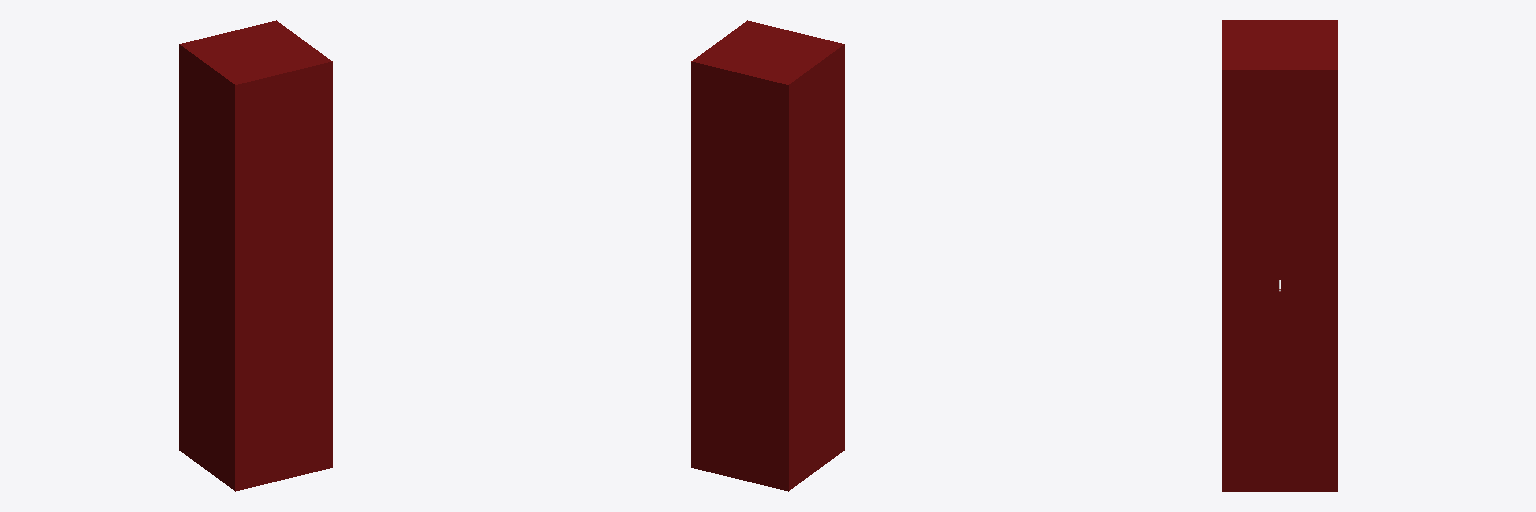
URDF robot description (valve):
<?xml version="1.0"?>
<robot name="valve">
  <link name="valve_base_link">
    <visual>
      <geometry>
        <box size="0.5 0.5 2.0"/>
      </geometry>
      <material name="redish">
	<color rgba="0.5 0.1 0.1 0.5"/>
      </material>
    </visual>
    <collision>
      <geometry>
        <box size="0.5 .5 2.0"/>
      </geometry>
    </collision>
    <inertial>
      <origin xyz="0 0 0"/>
      <mass value="10"/>
      <inertia ixx="1.0" ixy="0.0" ixz="0.0" iyy="1.0" iyz="0.0" izz="1.0"/>
    </inertial>
  </link>

  <link name="handle">
    <visual>
      <geometry>
	<mesh filename="package://wpi_drc_sim/meshes/valve_models/red-valve-3-spokes-handle.dae" scale="0.05 0.05 0.05"/>
      </geometry>
    </visual>
    <collision>
      <geometry>
        <mesh filename="package://wpi_drc_sim/meshes/valve_models/red-valve-3-spokes-handle.stl" scale="0.05 0.05 0.05"/>
      </geometry>
    </collision>
    <inertial>
      <origin xyz="0 0 0"/>
      <mass value="0.1"/>
      <inertia ixx="1.0" ixy="0.0" ixz="0.0" iyy="1.0" iyz="0.0" izz="1.0"/>
    </inertial>
  </link>
  
  <link name="rod">
    <visual>
      <geometry>
	<cylinder length="0.1" radius="0.005"/>
      </geometry>
      <origin rpy="0 1.57075 0" xyz="0 0 0"/>
      <material name="whiteish">
	<color rgba="1.0 1.0 1.0 1.0"/>
      </material>
    </visual>
    <collision>
      <geometry>
	<cylinder length="0.1" radius="0.005"/>
      </geometry>
      <origin rpy="0 1.57075 0" xyz="0 0 0"/>
    </collision>
    <inertial>
      <origin xyz="0 0 0"/>
      <mass value="0.1"/>
      <inertia ixx="1.0" ixy="0.0" ixz="0.0" iyy="1.0" iyz="0.0" izz="1.0"/>
    </inertial>
  </link>

  <joint name="body_to_rod" type="fixed">
    <parent link="valve_base_link"/>
    <child link="rod"/>
    <origin xyz="0.3 0.0 0.0"/>
  </joint>

  <joint name="rod_to_handle" type="continuous">
    <parent link="rod"/>
    <child link="handle"/>
    <axis xyz="1 0 0"/>
    <origin xyz="0.05 0 0"/>
  </joint>

  <!--gazebo>
    <turnGravityOff>true</turnGravityOff>
    <static>true</static>
  </gazebo-->
  <gazebo reference="valve_base_link">
    <material>Gazebo/Red</material>
  </gazebo>
</robot>

--- Render facts (derived) ---
Views: 3 orthographic renders of the robot side by side, from view 1: azimuth 30°, elevation 25°; view 2: azimuth 150°, elevation 25°; view 3: azimuth 270°, elevation 25°.
Model valve with 3 links and 2 joints (1 continuous, 1 fixed), rooted at valve_base_link, posed every joint at zero.
Links seen in each view (by area): view 1: valve_base_link; view 2: valve_base_link; view 3: valve_base_link.
Link boxes in pixels (x1=…): valve_base_link: x1=179, y1=20, x2=332, y2=491; valve_base_link: x1=691, y1=20, x2=844, y2=491; valve_base_link: x1=1222, y1=20, x2=1337, y2=491.
Bounding box of the posed robot: 0.6016 × 0.5 × 2 m (x, y, z).
Meshes: 1 distinct files referenced, 1 mesh visuals loaded (1 Collada DAE).